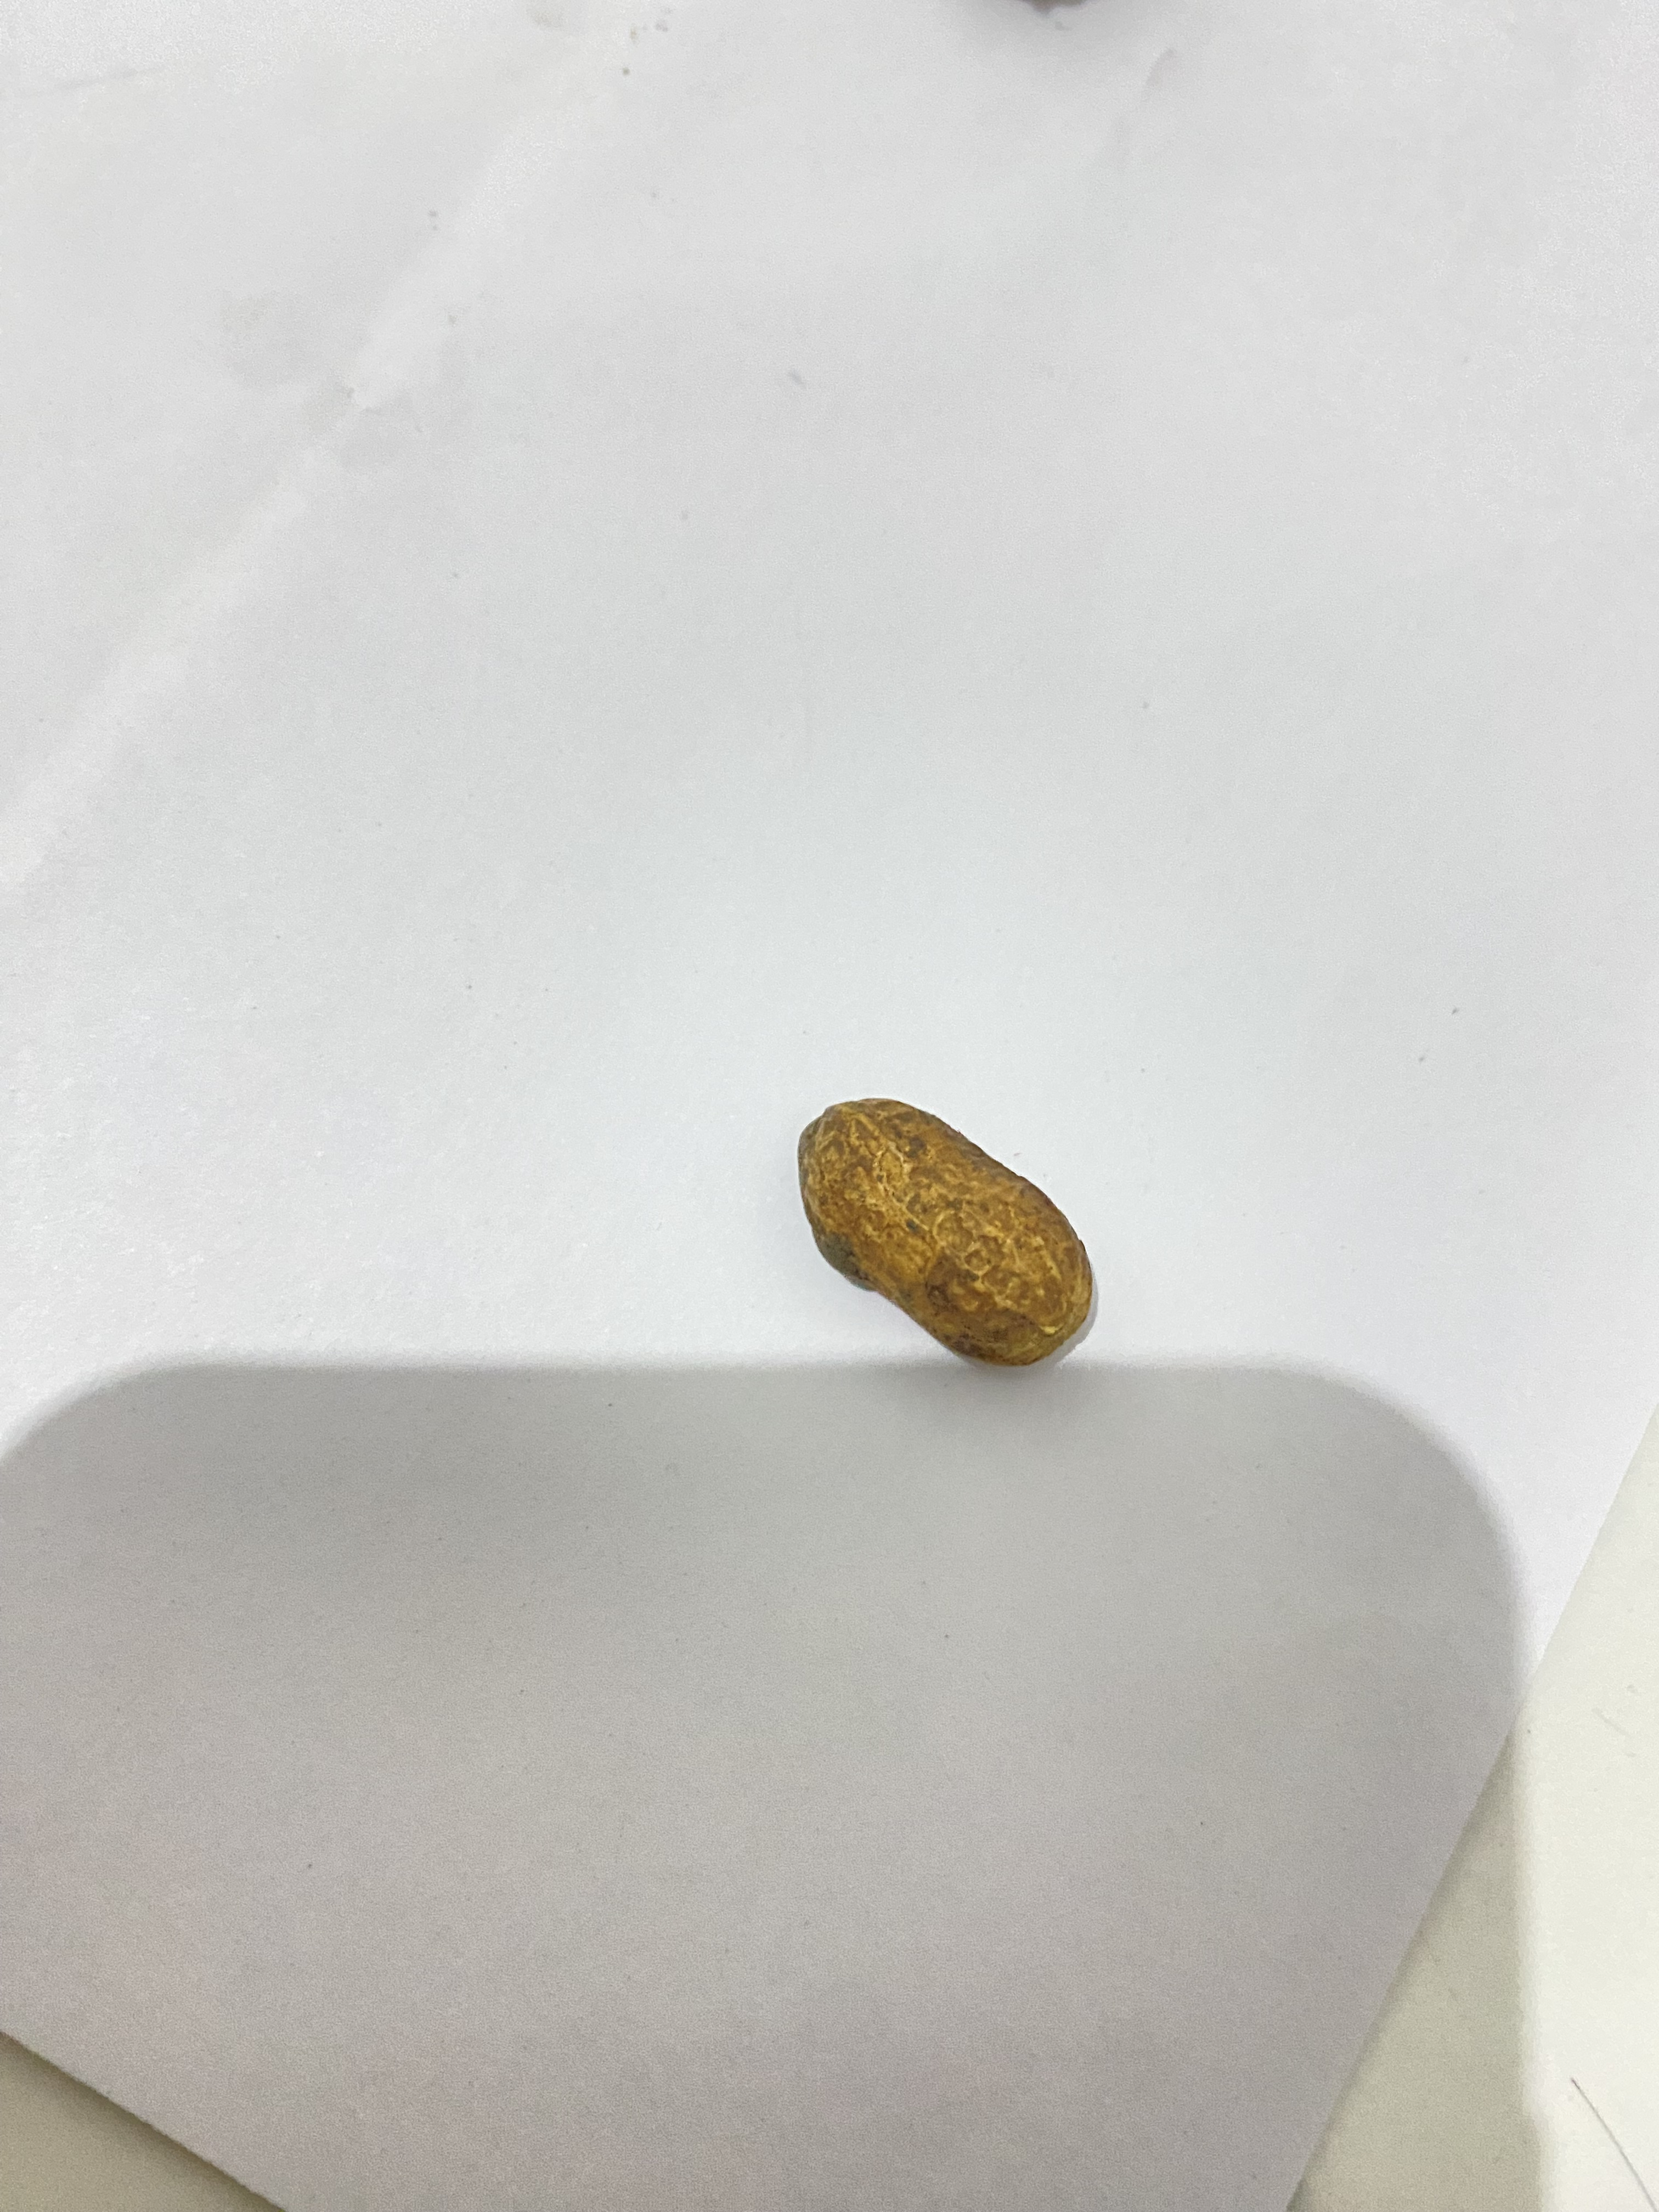kacang2: (711, 1092, 1129, 1397)
